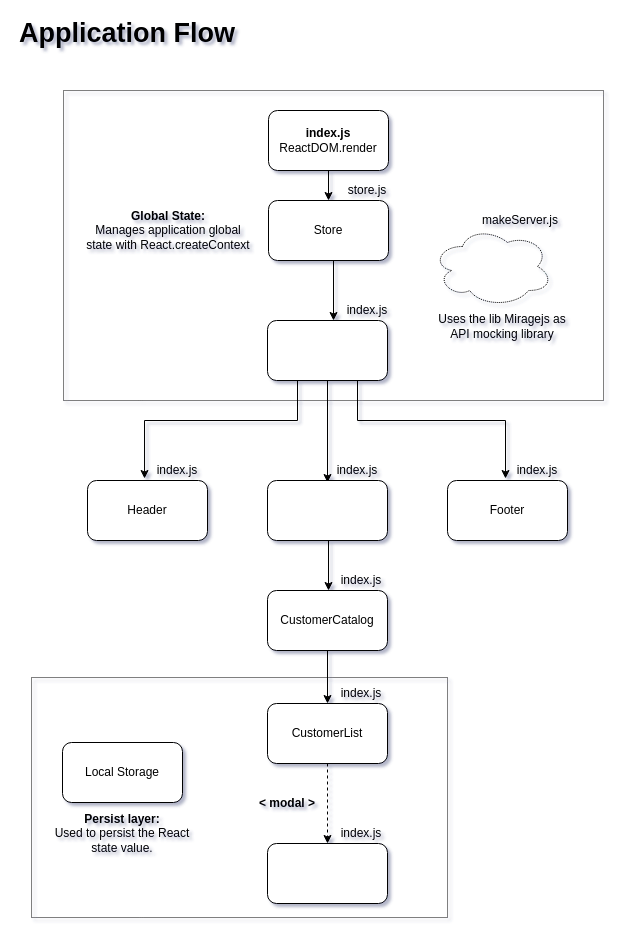
Image size: 627x941. Some labels were removed from this diagram. Each missing label, with the centre of its shape:
API mock: (x=492, y=266)
App: (x=327, y=350)
CustomerInfo: (x=327, y=873)
MainContent: (x=327, y=510)
